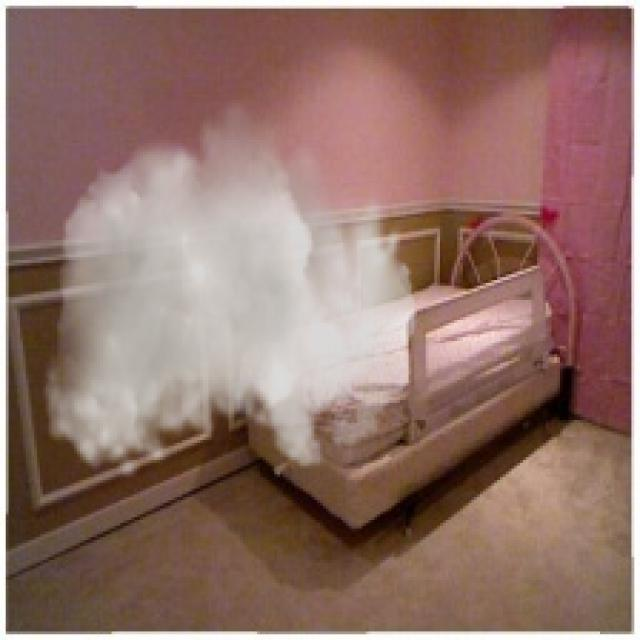smoke: (43, 91, 417, 480)
